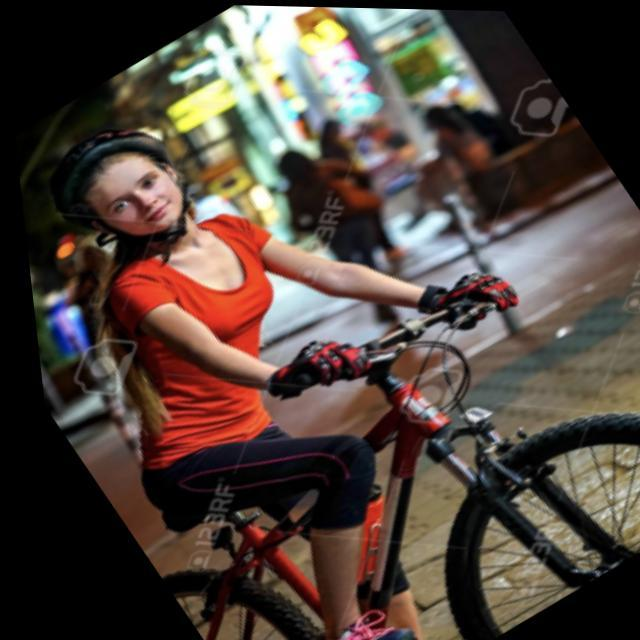Helmet: (42, 118, 197, 246)
